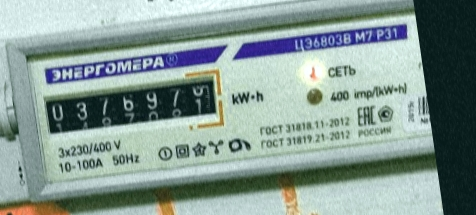0: (50, 102, 66, 124)
1: (193, 97, 206, 117)
3: (74, 101, 90, 122)
6: (120, 91, 136, 114)
7: (96, 96, 112, 118), (168, 87, 183, 110)
9: (144, 90, 159, 112)
screen: (35, 64, 232, 153)
